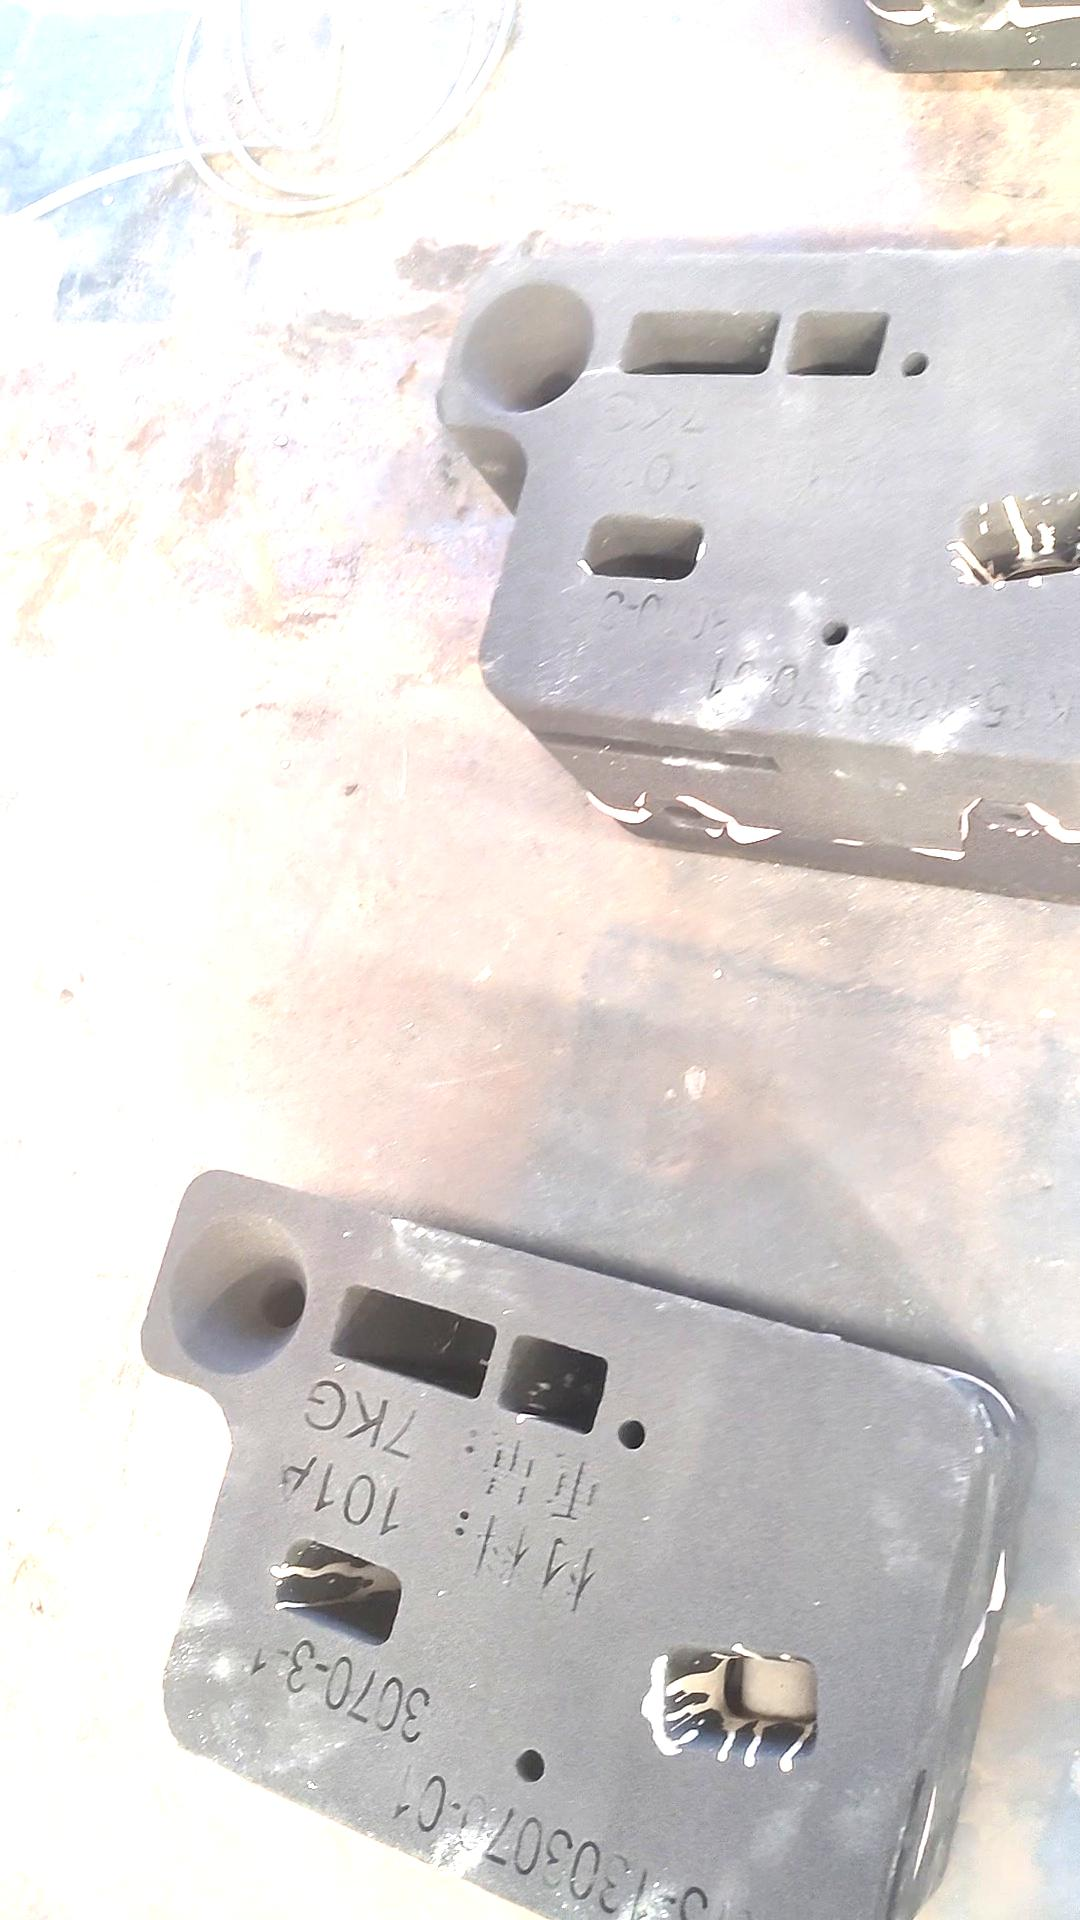pouring hole: (167, 1213, 307, 1375), (462, 284, 596, 413)
